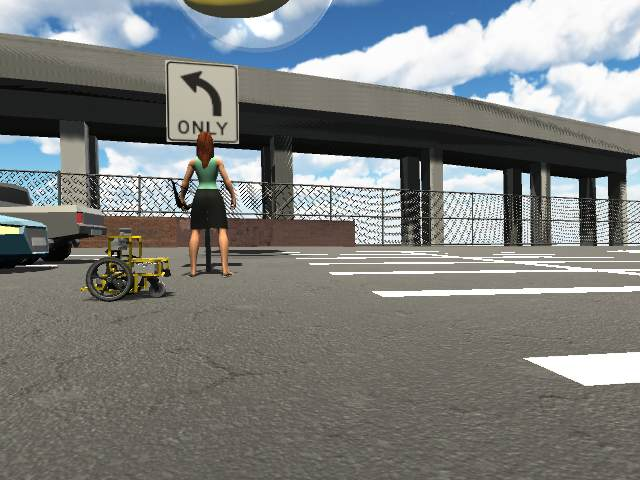arrow_left: (179, 68, 223, 117)
